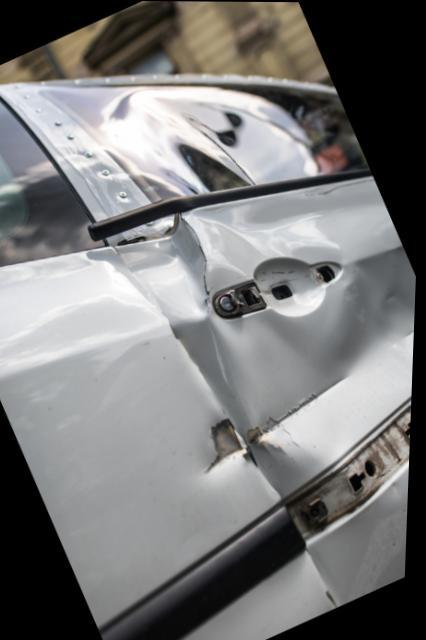dent: (181, 176, 418, 399), (264, 441, 392, 601), (208, 416, 252, 479)
